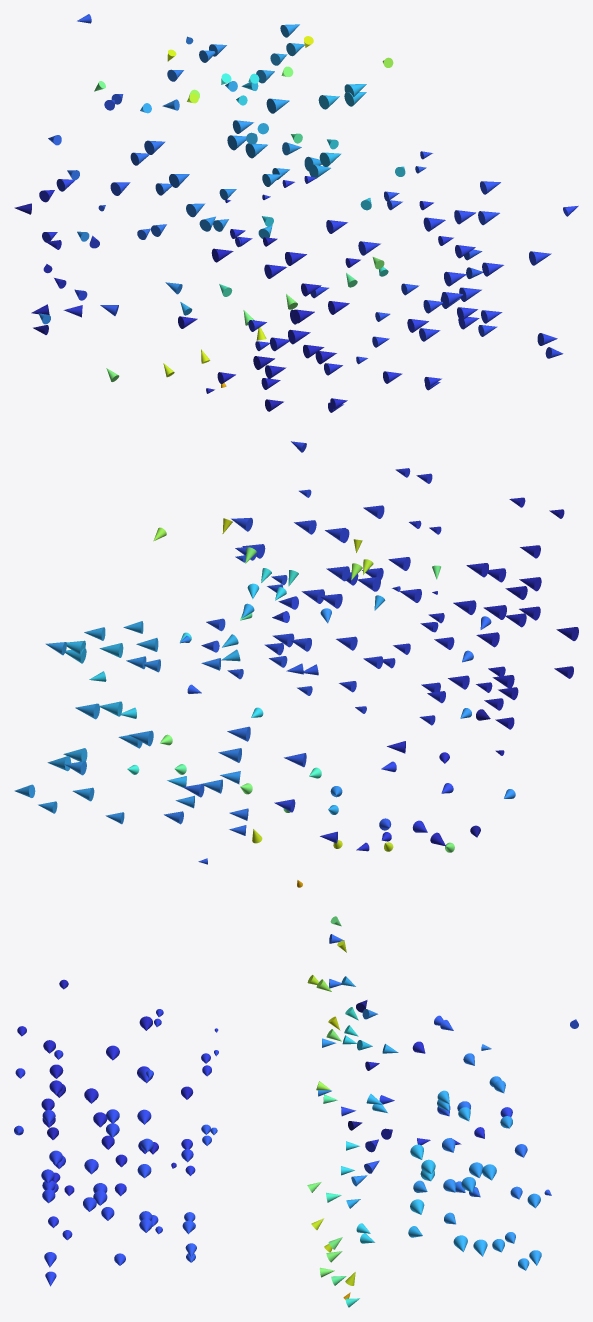
File: LineasCorrienteN2-H2O_mh2-8.20_V-0.9.glb
3 views of the same model, one above another, from view 1: azimuth 30°, elevation 25°; view 2: azimuth 150°, elevation 25°; view 3: azimuth 270°, elevation 25° (orthographic). The views are drawn at different scales.
Size of the model in its own units: 0.00096 by 0.000825 by 0.00127.
Materials: 2 (2 with a texture image).
